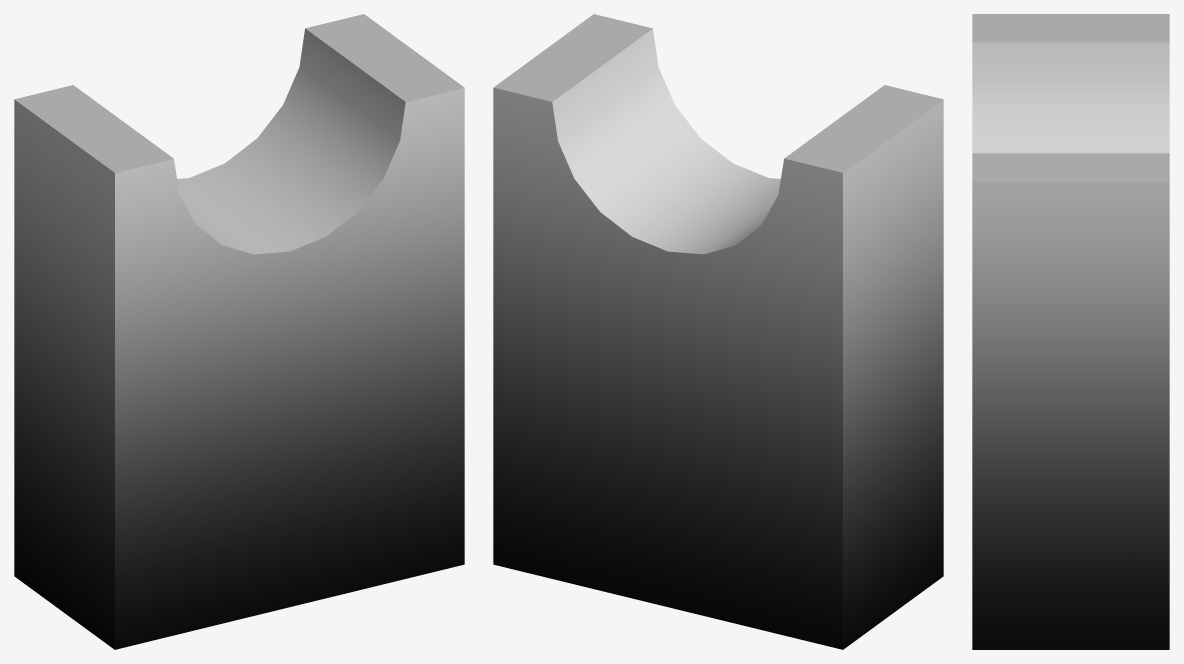
Rendered from BG_wall_variation.fbx.
3 renders of one model, left to right at view 1: azimuth 30°, elevation 25°; view 2: azimuth 150°, elevation 25°; view 3: azimuth 270°, elevation 25°, orthographic.
Visible parts, largest first — view 1: BG_wall_variation; view 2: BG_wall_variation; view 3: BG_wall_variation.
Part boxes in pixels (x1,y1,x2,y2): BG_wall_variation: (14,14,464,649); BG_wall_variation: (493,14,943,649); BG_wall_variation: (972,14,1169,649).
Size of the model in its own units: 2048 by 2668 by 1020.
